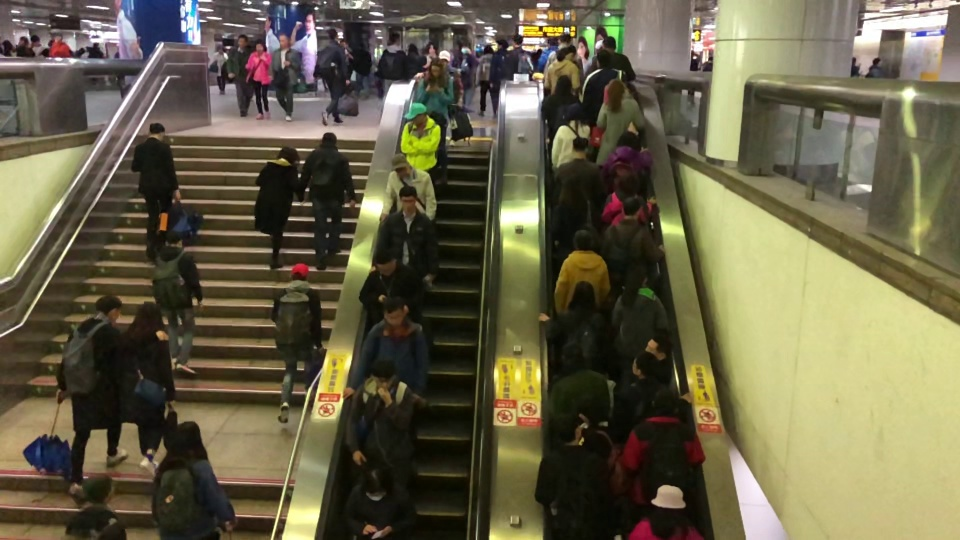person_head: (649, 484, 686, 535), (128, 300, 165, 340), (361, 465, 396, 501), (167, 420, 205, 451), (81, 474, 114, 507), (372, 358, 399, 395), (548, 412, 582, 441), (567, 279, 596, 311), (577, 395, 605, 427), (644, 334, 673, 364), (649, 387, 679, 416), (630, 349, 659, 376), (382, 297, 409, 325), (604, 77, 625, 113), (559, 341, 585, 369), (95, 295, 123, 320), (373, 247, 397, 276), (558, 175, 582, 204), (624, 263, 648, 292), (401, 101, 427, 126), (612, 172, 641, 193), (390, 152, 412, 178), (398, 184, 417, 213), (275, 145, 300, 166), (616, 131, 642, 151), (572, 227, 594, 250), (621, 196, 641, 221), (552, 74, 572, 98), (289, 261, 309, 283), (555, 45, 579, 63), (571, 136, 589, 159), (563, 101, 583, 121), (427, 58, 445, 78), (165, 230, 184, 248), (148, 121, 166, 139), (595, 50, 612, 69), (320, 131, 339, 147), (558, 31, 574, 48), (601, 35, 617, 51), (438, 49, 450, 69), (278, 32, 290, 50), (254, 40, 269, 54), (425, 41, 437, 57), (496, 38, 509, 52), (512, 33, 524, 48), (459, 42, 471, 55), (483, 42, 495, 55), (871, 54, 884, 66), (237, 33, 248, 47), (328, 27, 339, 41), (390, 32, 401, 46), (50, 31, 63, 42), (19, 34, 29, 47), (30, 34, 40, 47), (595, 39, 604, 52), (547, 38, 558, 48), (215, 42, 224, 54), (850, 54, 858, 66), (689, 49, 695, 57)
person_vbox: (57, 295, 169, 503), (342, 296, 429, 476), (345, 359, 428, 488), (617, 389, 708, 504), (151, 420, 238, 540), (535, 409, 610, 540), (120, 301, 175, 479), (270, 263, 324, 424), (299, 131, 357, 270), (379, 152, 437, 291), (611, 350, 694, 444), (540, 279, 614, 381), (153, 233, 203, 376), (130, 122, 181, 258), (596, 196, 665, 296), (546, 338, 616, 429), (374, 186, 436, 286), (359, 248, 426, 334), (342, 465, 418, 540), (256, 146, 302, 269), (578, 395, 629, 505), (609, 265, 669, 358), (553, 229, 610, 321), (596, 79, 646, 171), (547, 137, 600, 223), (417, 60, 452, 188), (627, 484, 707, 540), (64, 472, 129, 540), (549, 177, 596, 259), (312, 28, 350, 125), (599, 131, 653, 198), (599, 171, 657, 233), (414, 51, 463, 120), (401, 102, 441, 184), (581, 53, 630, 117), (376, 32, 409, 124), (540, 73, 583, 140), (271, 32, 303, 122), (552, 102, 591, 172), (244, 40, 274, 120), (227, 34, 256, 116), (451, 39, 479, 121), (543, 33, 584, 89), (592, 35, 635, 83), (544, 45, 580, 97), (474, 43, 495, 117), (505, 34, 536, 77), (489, 39, 510, 92), (208, 45, 228, 95), (584, 38, 605, 83), (686, 45, 701, 106), (412, 43, 438, 75), (538, 37, 560, 72), (48, 31, 72, 59), (864, 54, 888, 81), (15, 35, 37, 59), (29, 34, 49, 59), (848, 53, 863, 80)
